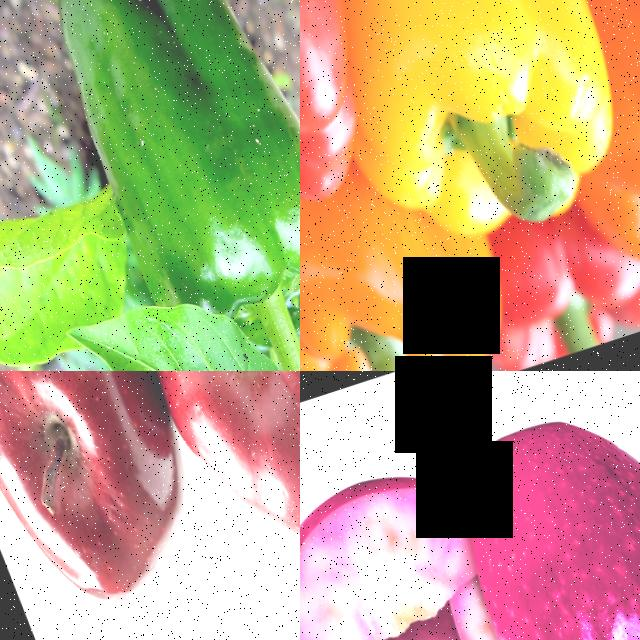apple: (392, 371, 640, 640), (0, 371, 237, 640), (58, 371, 300, 630), (300, 452, 516, 640)
bell pepper: (20, 0, 300, 353), (303, 0, 640, 226), (523, 0, 640, 270), (300, 223, 506, 371), (480, 231, 633, 368)
